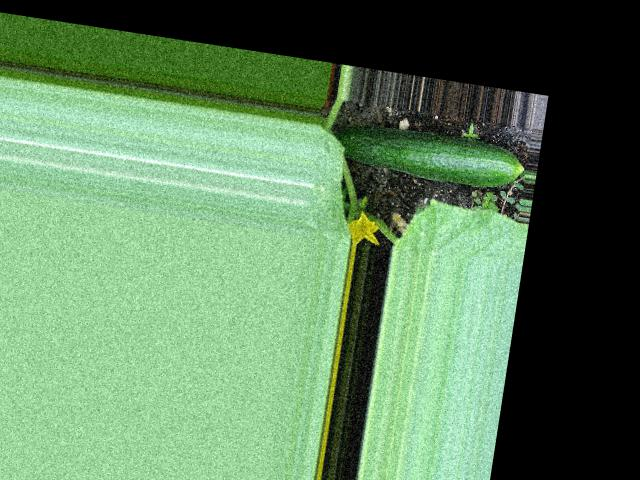cucumber: (331, 117, 528, 193)
